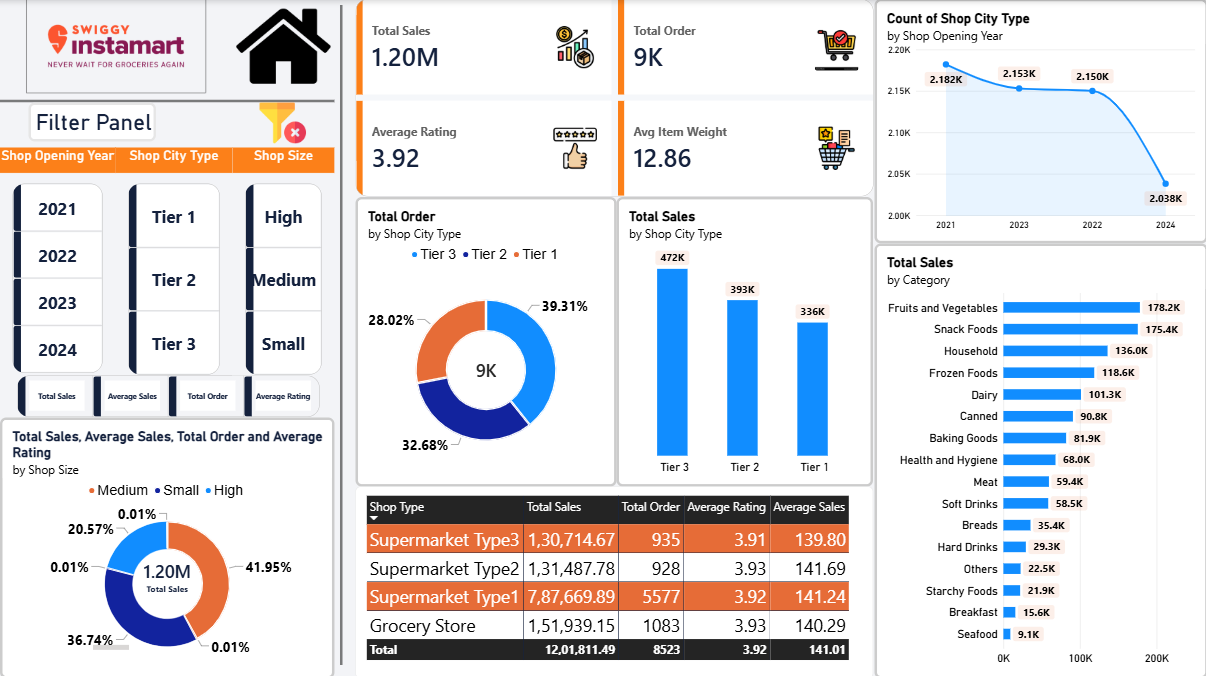

This screenshot's page, from the dashboard's own definition file:
{"tool":"powerbi","page":{"name":"Instamart Dashboard","canvas":[1920,1080],"ordinal":0},"visuals":[{"type":"cardVisual","fields":{"Data":["Grocery Shop.Total Sales","Grocery Shop.Total Order","Grocery Shop.Average Rating","Grocery Shop.Avg Item Weight"]},"box":[565.5,0,825.5,314.9],"z":0},{"type":"columnChart","fields":{"Category":["Grocery Shop.Shop City Type"],"Y":["Grocery Shop.Total Sales"]},"box":[980.6,314.9,408,460.5],"z":1000},{"type":"donutChart","fields":{"Category":["Grocery Shop.Shop City Type"],"Y":["Grocery Shop.Total Order"]},"box":[565.5,314.9,415.1,460.5],"z":2000},{"type":"lineChart","fields":{"Category":["Grocery Shop.Shop Opening Year"],"Y":["CountNonNull(Grocery Shop.Shop City Type)"]},"box":[1391,0,529.7,388.9],"z":3000},{"type":"barChart","fields":{"Category":["Grocery Shop.Category"],"Y":["Grocery Shop.Total Sales"]},"box":[1391,388.9,529.7,691.9],"z":4000},{"type":"advancedSlicerVisual","title":"Shop Opening Year","fields":{"Values":["Grocery Shop.Shop Opening Year"]},"box":[0,236.2,183.7,362.7],"z":5000},{"type":"donutChart","fields":{"Category":["Grocery Shop.Shop Size"],"Y":["Grocery Shop.Total Sales","Grocery Shop.Average Sales","Grocery Shop.Total Order","Grocery Shop.Average Rating"]},"box":[0,665.7,532.1,415.1],"z":5000,"group":"g1"},{"type":"advancedSlicerVisual","title":"Shop Size","fields":{"Values":["Grocery Shop.Shop Size"]},"box":[369.8,236.2,162.2,362.7],"z":6000},{"type":"advancedSlicerVisual","title":"Shop City Type","fields":{"Values":["Grocery Shop.Shop City Type"]},"box":[183.7,236.2,186.1,362.7],"z":7000},{"type":"image","box":[369.8,0,162.2,150.3],"z":8000},{"type":"image","box":[0,0,369.8,150.3],"z":9000},{"type":"shape","box":[0,133.6,532.1,57.3],"z":10000},{"type":"shape","box":[520.1,9.5,45.3,1049.8],"z":11000},{"type":"tableEx","fields":{"Values":["Grocery Shop.Shop Type","Grocery Shop.Total Sales","Grocery Shop.Total Order","Grocery Shop.Average Rating","Grocery Shop.Average Sales"]},"box":[565.5,775.4,823.1,305.4],"z":12000},{"type":"advancedSlicerVisual","fields":{"Values":["Metric s.Metrics"]},"box":[7.2,598.9,524.9,66.8],"z":13000},{"type":"textbox","title":"Filter Panel","box":[45.3,164.6,202.8,62],"z":14000},{"type":"image","box":[412.8,157.5,74,78.7],"z":15000},{"type":"cardVisual","fields":{"Data":["Grocery Shop.Total Sales","Grocery Shop.Average Sales","Grocery Shop.Total Order","Grocery Shop.Average Rating"]},"box":[147.9,816,236.2,221.9],"z":15000,"group":"g1"},{"type":"group","id":"g1","title":"Group 1","box":[0,665.7,532.1,415.1],"z":16000}]}

Visuals, with their boxes in screenshot pixels (x1, y1, x2, y2), scaled from the page's 1920x1080 canvas onto the 1206x676 screenshot:
cardVisual - Grocery Shop.Total Sales x Grocery Shop.Total Order: [355,0,874,197]
columnChart - Grocery Shop.Shop City Type x Grocery Shop.Total Sales: [616,197,872,485]
donutChart - Grocery Shop.Shop City Type x Grocery Shop.Total Order: [355,197,616,485]
lineChart - Grocery Shop.Shop Opening Year x CountNonNull(Grocery Shop.Shop City Type): [874,0,1205,243]
barChart - Grocery Shop.Category x Grocery Shop.Total Sales: [874,243,1205,675]
"Shop Opening Year" advancedSlicerVisual: [0,148,115,375]
donutChart - Grocery Shop.Shop Size x Grocery Shop.Total Sales: [0,417,334,675]
"Shop Size" advancedSlicerVisual: [232,148,334,375]
"Shop City Type" advancedSlicerVisual: [115,148,232,375]
image: [232,0,334,94]
image: [0,0,232,94]
shape: [0,84,334,119]
shape: [327,6,355,663]
tableEx - Grocery Shop.Shop Type x Grocery Shop.Total Sales: [355,485,872,675]
advancedSlicerVisual - Metric s.Metrics: [5,375,334,417]
"Filter Panel" textbox: [28,103,156,142]
image: [259,99,306,148]
cardVisual - Grocery Shop.Total Sales x Grocery Shop.Average Sales: [93,511,241,650]
"Group 1" group: [0,417,334,675]
